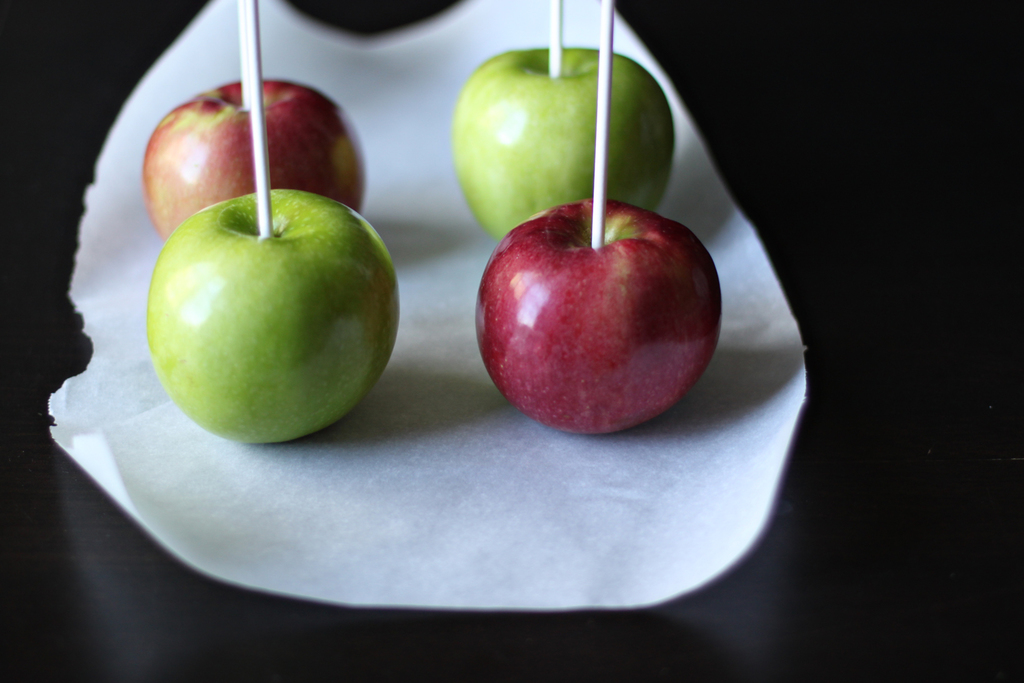Apple: (144, 189, 399, 446), (462, 183, 715, 439), (443, 47, 673, 243), (141, 77, 361, 243)
